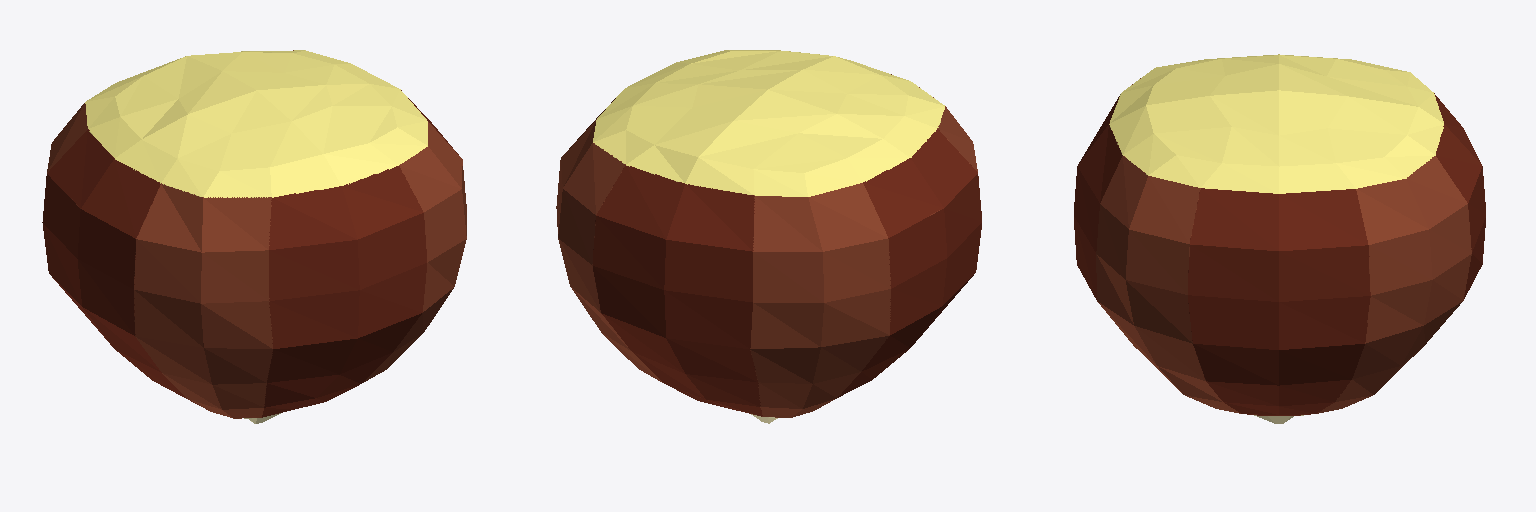
3 views of the same model, side by side, from view 1: azimuth 30°, elevation 25°; view 2: azimuth 150°, elevation 25°; view 3: azimuth 270°, elevation 25° (orthographic).
Visible parts, largest first — view 1: castanay_Cube.044; view 2: castanay_Cube.044; view 3: castanay_Cube.044.
Boxes of the visible parts, box(x1,y1,x2,y2) form: castanay_Cube.044: box(42, 50, 466, 423); castanay_Cube.044: box(556, 50, 981, 423); castanay_Cube.044: box(1074, 54, 1485, 423).
Bounding box in the file's own units: 1.17 × 1.04 × 1.17.
1 materials, 1 textured.